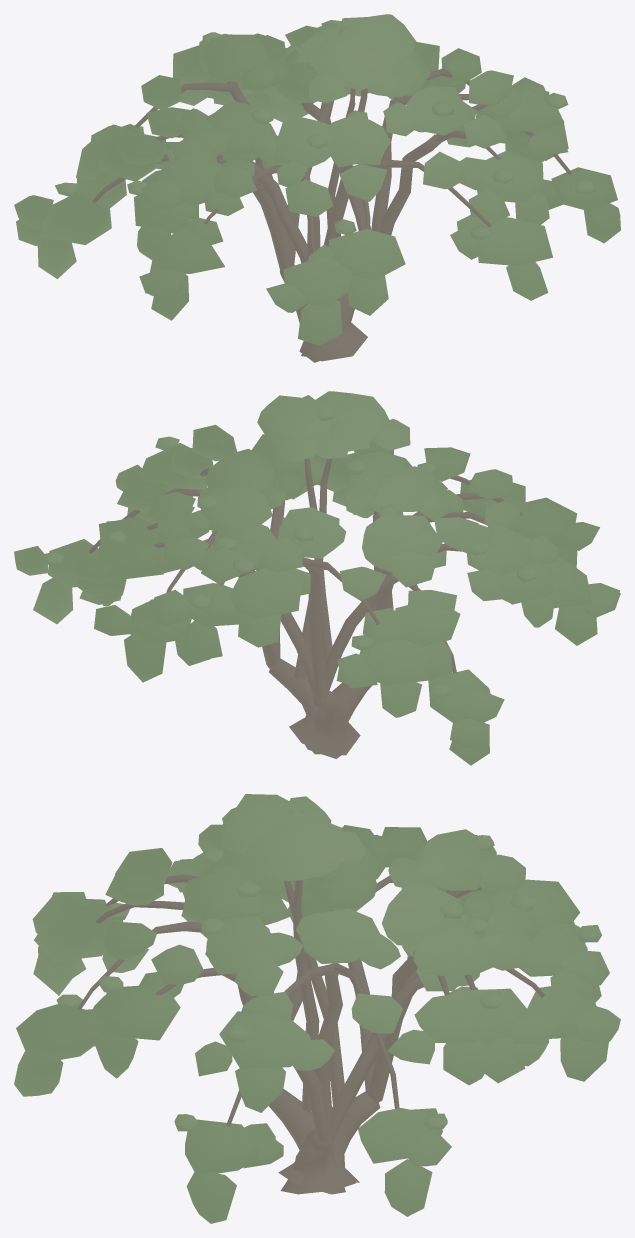
The model's file is Blender_Ironwood_1.glb.
3 renders of one model, top to bottom at view 1: azimuth 30°, elevation 25°; view 2: azimuth 150°, elevation 25°; view 3: azimuth 270°, elevation 25°, orthographic. The views are drawn at different scales.
Parts seen in each view (by area): view 1: Blender_Ironwood_1; view 2: Blender_Ironwood_1; view 3: Blender_Ironwood_1.
Boxes of the visible parts, box(x1,y1,x2,y2) form: Blender_Ironwood_1: box(14, 14, 620, 362); Blender_Ironwood_1: box(14, 391, 620, 765); Blender_Ironwood_1: box(14, 794, 620, 1223).
Bounding box in the file's own units: 11.94 × 7.53 × 10.48.
